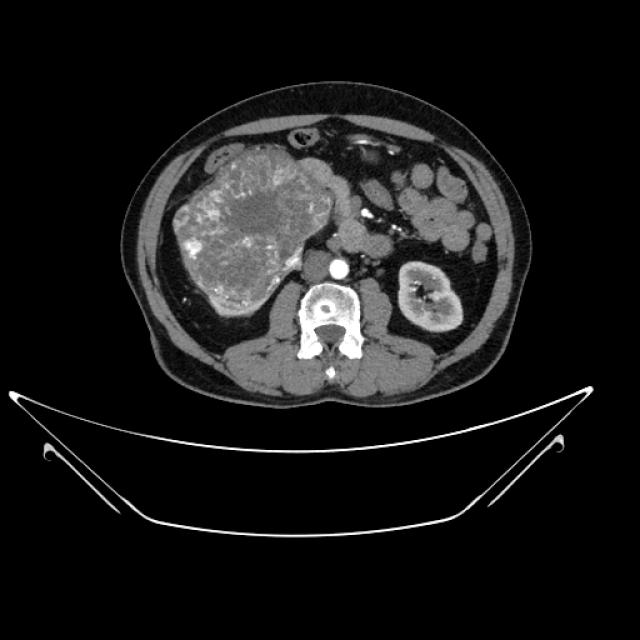Tumor: (172, 150, 334, 296)
